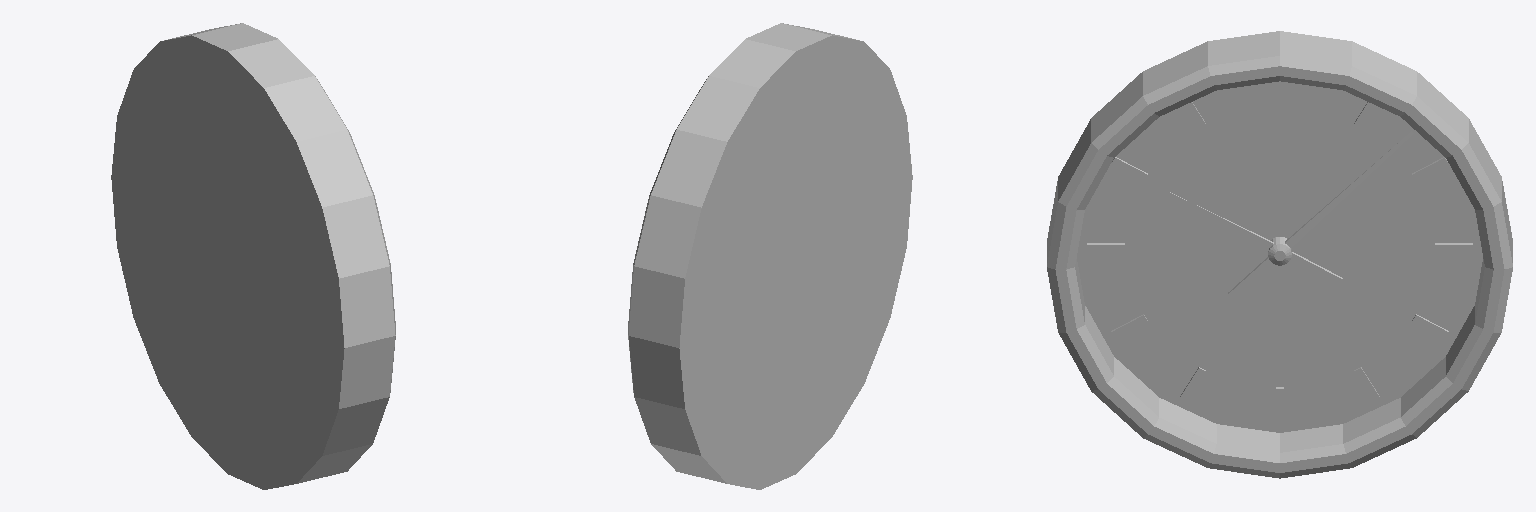
File: 1345 Analog Clock.obj
3 renders of one model, left to right at view 1: azimuth 30°, elevation 25°; view 2: azimuth 150°, elevation 25°; view 3: azimuth 270°, elevation 25°, orthographic.
Parts seen in each view (by area): view 1: Analog_Cock; view 2: Analog_Cock; view 3: Analog_Cock.
Part boxes in pixels (bbox=[...]): Analog_Cock: bbox=[111, 23, 395, 489]; Analog_Cock: bbox=[628, 23, 912, 489]; Analog_Cock: bbox=[1047, 31, 1512, 478].
Size of the model in its own units: 3.84 by 27.65 by 27.65.